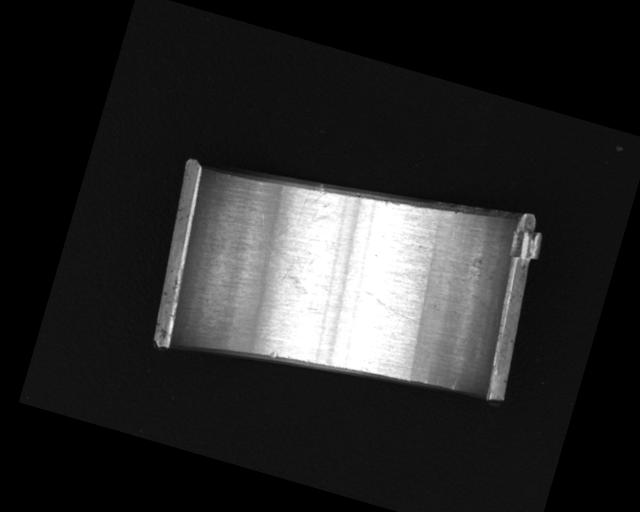blot: (260, 244, 319, 298)
bruise: (268, 349, 278, 359)
nick: (450, 377, 459, 392)
